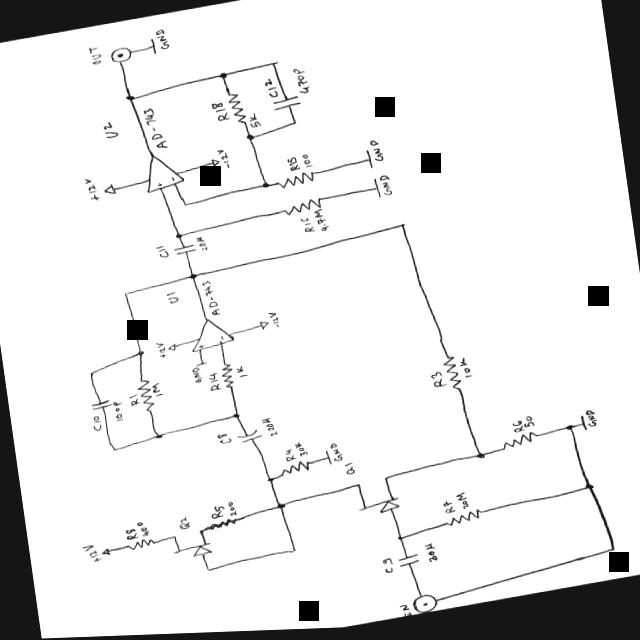capacitor: (271, 96, 303, 113), (236, 429, 264, 445), (397, 555, 421, 571), (91, 399, 114, 412), (172, 244, 196, 256)
ground: (372, 179, 383, 202), (365, 150, 375, 172), (579, 418, 589, 435), (324, 450, 333, 468), (148, 38, 157, 55), (195, 361, 209, 368)
junction: (565, 426, 576, 436), (584, 486, 595, 495), (245, 134, 255, 143), (125, 94, 135, 103), (608, 549, 618, 557), (189, 273, 198, 281), (261, 182, 270, 190), (266, 477, 275, 485), (231, 413, 241, 420), (154, 433, 164, 440), (398, 224, 407, 231), (218, 74, 227, 81), (476, 455, 485, 462), (271, 61, 279, 68), (136, 350, 145, 356), (204, 567, 213, 573), (176, 233, 183, 240), (122, 291, 130, 297), (110, 447, 118, 453), (278, 504, 285, 510), (398, 537, 404, 544), (88, 371, 95, 377), (291, 121, 298, 127), (182, 202, 189, 208), (289, 549, 297, 554)
resistor: (281, 198, 322, 219), (275, 172, 317, 192), (441, 356, 462, 394), (501, 434, 540, 454), (444, 510, 482, 530), (226, 93, 248, 127), (279, 459, 314, 479), (137, 379, 156, 412), (219, 362, 237, 392), (126, 537, 159, 551), (207, 518, 237, 533)
source: (102, 182, 118, 197), (258, 319, 269, 332), (210, 158, 221, 169), (167, 343, 178, 353), (100, 547, 111, 557)
terminal: (410, 594, 438, 618), (109, 46, 132, 64), (101, 547, 112, 557)
text: (140, 106, 169, 149), (201, 280, 221, 317), (82, 175, 102, 204), (292, 67, 312, 96), (312, 209, 329, 235), (81, 544, 103, 564), (211, 102, 231, 124), (369, 140, 386, 165), (263, 78, 280, 101), (378, 175, 394, 199), (154, 29, 171, 51), (429, 372, 448, 391), (260, 419, 279, 438), (422, 544, 438, 566), (206, 371, 222, 393), (329, 443, 345, 465), (103, 120, 119, 140), (459, 359, 472, 383), (217, 149, 231, 171), (88, 46, 103, 66), (584, 412, 599, 432), (292, 442, 310, 458), (112, 400, 125, 422), (300, 217, 315, 235), (285, 157, 301, 173), (195, 235, 209, 253), (381, 559, 395, 577), (90, 414, 104, 432), (248, 112, 262, 130), (191, 367, 205, 385), (155, 341, 168, 360), (267, 311, 280, 330), (211, 505, 226, 521), (137, 521, 151, 538), (455, 495, 468, 513), (442, 502, 457, 517), (124, 526, 139, 541), (283, 449, 298, 464), (398, 605, 413, 620), (511, 422, 526, 437), (155, 245, 170, 259), (235, 365, 249, 380), (165, 291, 180, 305), (177, 517, 191, 531), (522, 418, 536, 432), (343, 463, 356, 478), (301, 154, 314, 169), (227, 501, 238, 518), (152, 382, 163, 399), (128, 393, 141, 407), (217, 434, 232, 445), (168, 176, 176, 183), (198, 343, 206, 350), (155, 183, 164, 189), (219, 335, 226, 341)
transistor: (352, 475, 404, 520), (170, 527, 214, 563)
